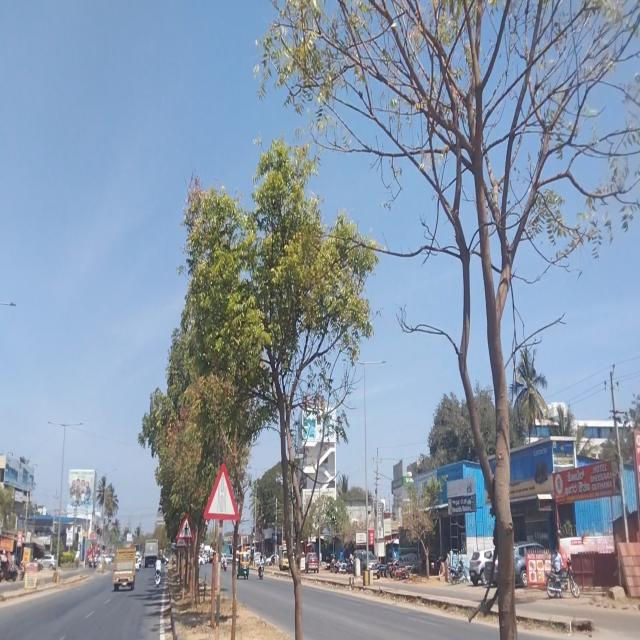bien_cam: (202, 460, 238, 523), (178, 513, 192, 540), (176, 533, 186, 550)
